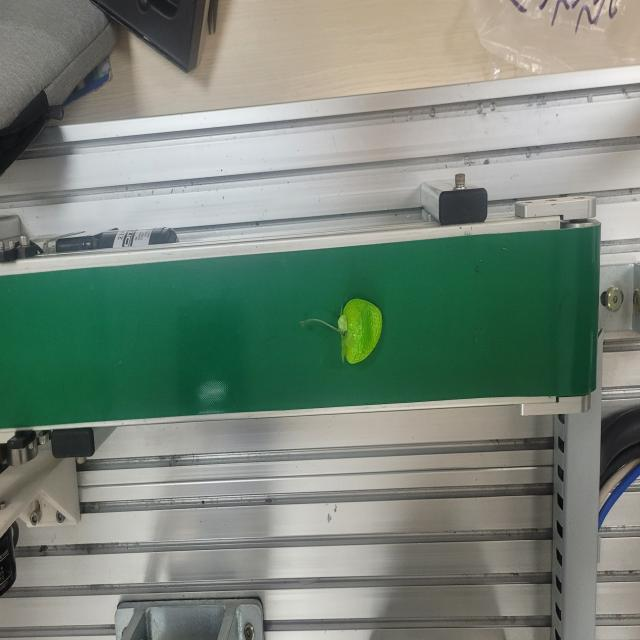Small Unripe Strawberry: (298, 292, 385, 369)
